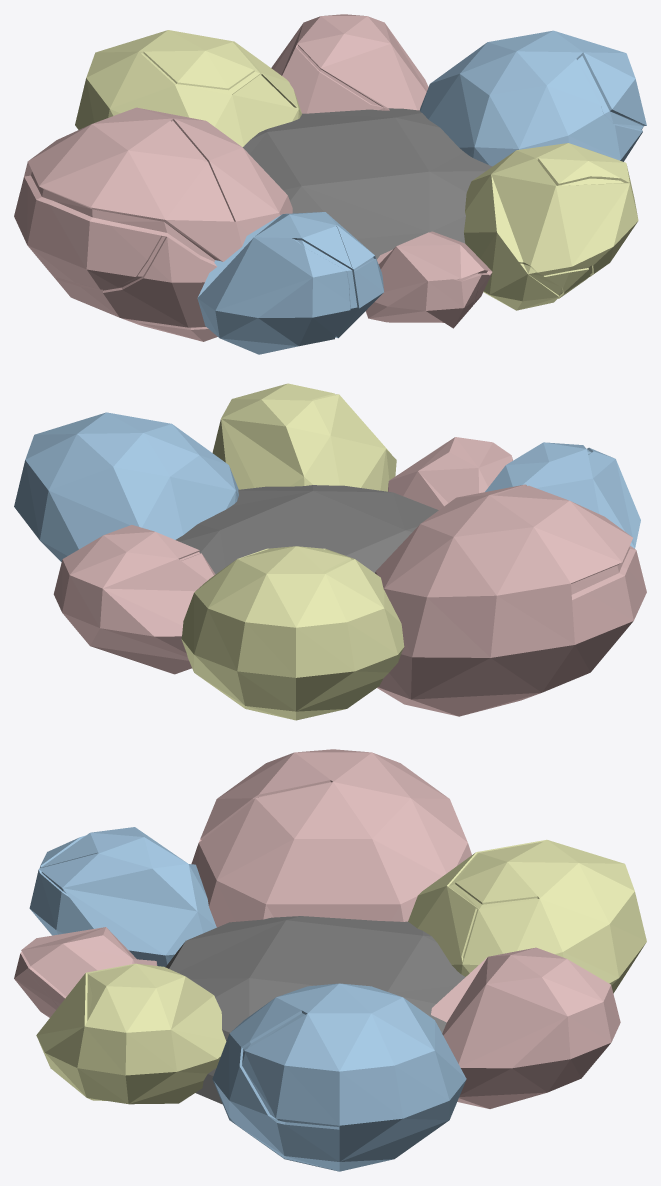
File: object_cloud_5.fbx
The picture shows the model from 3 angles, top to bottom: view 1: azimuth 30°, elevation 25°; view 2: azimuth 150°, elevation 25°; view 3: azimuth 270°, elevation 25°; orthographic projection. The views are drawn at different scales.
Parts seen in each view (by area): view 1: Sphere012; view 2: Sphere012; view 3: Sphere012.
Boxes of the visible parts, left/top/right/bottom form: Sphere012: left=14, top=14, right=646, bottom=354; Sphere012: left=14, top=383, right=646, bottom=720; Sphere012: left=14, top=749, right=646, bottom=1171.
Size of the model in its own units: 126 by 42.08 by 105.
